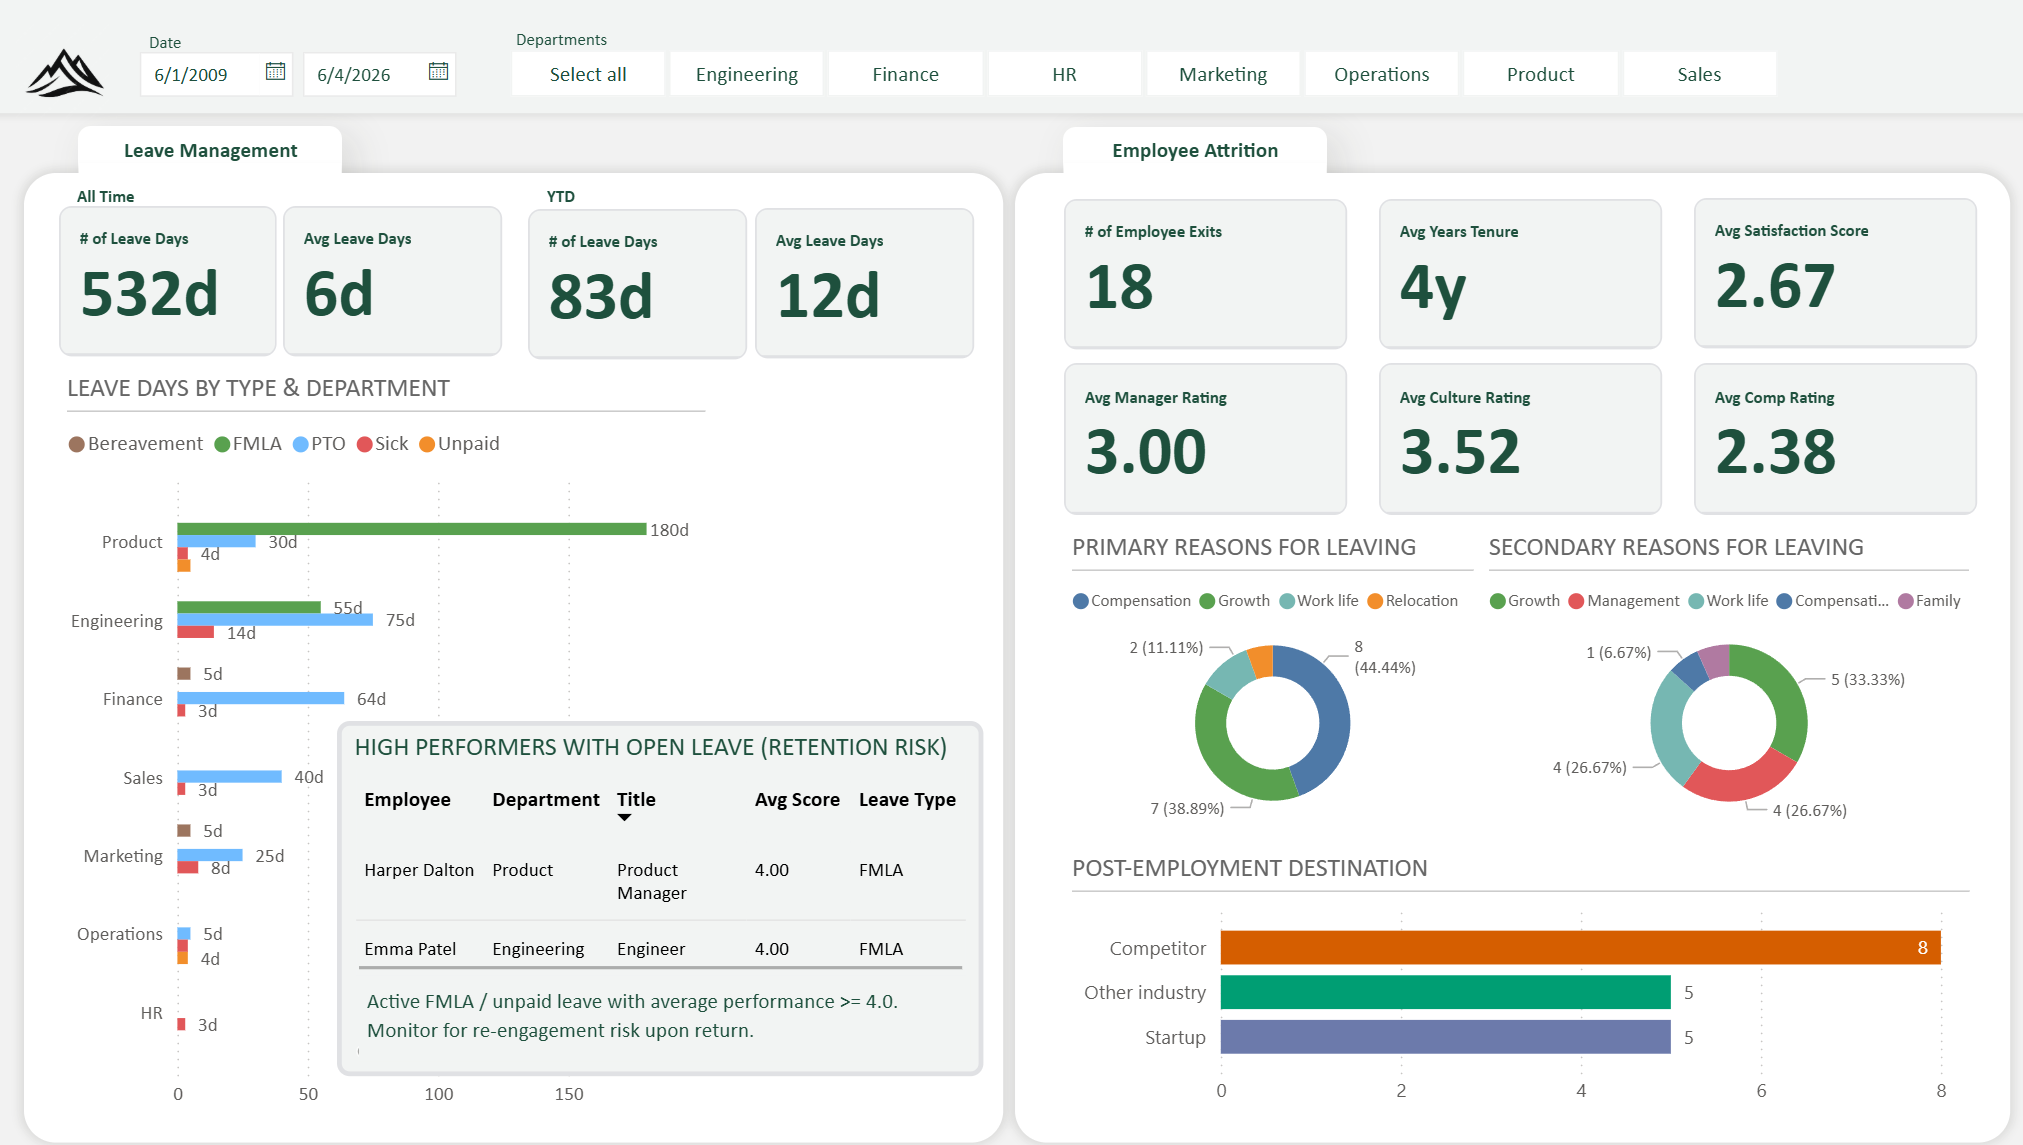

The dashboard page shown, as its layout file describes it:
{"tool":"powerbi","page":{"name":"Leave Management & Employee Attrition","canvas":[1280,720],"ordinal":1},"visuals":[{"type":"shape","box":[670.1,80.4,164.9,51.5],"z":0},{"type":"shape","box":[54.5,79.9,164.9,51.4],"z":1000},{"type":"shape","box":[640,109.1,622.2,605.7],"z":2000},{"type":"shape","box":[20.9,109.1,612.1,605.7],"z":3000},{"type":"shape","box":[0,0,1279.7,72.2],"z":4000},{"type":"image","box":[12.5,14.4,67.3,65.4],"z":5000},{"type":"slicer","fields":{"Values":["Departments.dept_name"]},"box":[298.7,25.3,841.8,43],"z":6000},{"type":"slicer","fields":{"Values":["Date.Date"]},"box":[79.7,24.1,219,44.3],"z":7000},{"type":"textbox","box":[93.6,12.7,48.4,28.7],"z":12000},{"type":"textbox","box":[322.9,10.5,89.8,30.3],"z":13000},{"type":"textbox","box":[55.6,80.8,163.6,28.3],"z":14000},{"type":"textbox","box":[670.6,80.4,164.4,28.9],"z":15000},{"type":"shape","box":[55,102.9,164.5,22.7],"z":16000},{"type":"shape","box":[670.6,103.1,164.4,22.7],"z":17000},{"type":"cardVisual","fields":{"Data":["Leave_Requests.Approved_Leave_Days"]},"box":[42.4,130.3,136.4,93.9],"z":18000},{"type":"cardVisual","fields":{"Data":["Leave_Requests.Leave_Days_Approved_12M"]},"box":[335.4,131.6,137.3,93.9],"z":19000},{"type":"cardVisual","fields":{"Data":["Leave_Requests.Avg_Days_Taken"]},"box":[182.5,130.2,137.3,93.9],"z":20000},{"type":"cardVisual","fields":{"Data":["Leave_Requests.Avg_Leave_Days_12M"]},"box":[477.8,131.3,137.4,93.9],"z":21000},{"type":"textbox","box":[48.6,109,89.6,31.6],"z":22000},{"type":"textbox","box":[342.5,109,89.6,31.6],"z":23000},{"type":"clusteredBarChart","title":"LEAVE DAYS BY TYPE & DEPARTMENT","fields":{"Category":["Departments.dept_name"],"Y":["Leave_Requests.Approved_Leave_Days"],"Series":["Leave_Requests.Employment Status Display"]},"box":[42.5,234,409,466],"z":24000},{"type":"tableEx","title":"HIGH PERFORMERS WITH OPEN LEAVE (RETENTION RISK)","fields":{"Values":["Employees.Employee_Name","Departments.dept_name","Employees.job_title","Performance.Average_Performance_Active","Leave_Requests.Employment Status Display"]},"box":[216.4,451.6,403.9,221.9],"z":25000},{"type":"shape","box":[229.7,588.2,377.4,35.8],"z":26000},{"type":"textbox","box":[229.7,612.7,382.1,51.9],"z":27000},{"type":"cardVisual","fields":{"Data":["Exit_Interviews.Avg_Years_Tenure"]},"box":[867.2,125.8,177.3,93.8],"z":28000},{"type":"cardVisual","fields":{"Data":["Exit_Interviews.Exit_Count"]},"box":[670.3,125.8,177.3,93.8],"z":29000},{"type":"cardVisual","fields":{"Data":["Exit_Interviews.Avg_Satisfaction_Score"]},"box":[1064.1,125,177.3,93.8],"z":30000},{"type":"cardVisual","fields":{"Data":["Exit_Interviews.Avg_Manager_Rating"]},"box":[670.3,228.1,177.3,94.5],"z":31000},{"type":"cardVisual","fields":{"Data":["Exit_Interviews.Avg_Culture_Rating"]},"box":[867.2,228.1,177.3,94.5],"z":32000},{"type":"cardVisual","fields":{"Data":["Exit_Interviews.Avg_Comp_Rating"]},"box":[1064.1,228.1,177.3,94.5],"z":33000},{"type":"donutChart","title":"PRIMARY REASONS FOR LEAVING","fields":{"Category":["Exit_Interviews.Reason Primary Display"],"Y":["Exit_Interviews.Exit_Count"]},"box":[670.3,332.8,260.9,186.7],"z":34000},{"type":"donutChart","title":"SECONDARY REASONS FOR LEAVING","fields":{"Category":["Exit_Interviews.Reason Secondary Display"],"Y":["Exit_Interviews.Exit_Count"]},"box":[931.2,332.8,310.2,186.7],"z":35000},{"type":"clusteredBarChart","title":"POST-EMPLOYMENT DESTINATION","fields":{"Category":["Exit_Interviews.Destination Type Display"],"Y":["Exit_Interviews.Exit_Count"]},"box":[670.3,533.6,571.1,166.4],"z":36000}]}

Visuals, with their boxes in screenshot pixels (x1, y1, x2, y2), scaled from the page's 1280x720 canvas onto the 2023x1145 screenshot:
shape: box(1059, 128, 1320, 210)
shape: box(86, 127, 347, 209)
shape: box(1012, 173, 1995, 1137)
shape: box(33, 173, 1000, 1137)
shape: box(0, 0, 2022, 115)
image: box(20, 23, 126, 127)
slicer - Departments.dept_name: box(472, 40, 1803, 109)
slicer - Date.Date: box(126, 38, 472, 109)
textbox: box(148, 20, 224, 66)
textbox: box(510, 17, 652, 65)
textbox: box(88, 128, 346, 173)
textbox: box(1060, 128, 1320, 174)
shape: box(87, 164, 347, 200)
shape: box(1060, 164, 1320, 200)
cardVisual - Leave_Requests.Approved_Leave_Days: box(67, 207, 283, 357)
cardVisual - Leave_Requests.Leave_Days_Approved_12M: box(530, 209, 747, 359)
cardVisual - Leave_Requests.Avg_Days_Taken: box(288, 207, 505, 356)
cardVisual - Leave_Requests.Avg_Leave_Days_12M: box(755, 209, 972, 358)
textbox: box(77, 173, 218, 224)
textbox: box(541, 173, 683, 224)
"LEAVE DAYS BY TYPE & DEPARTMENT" clusteredBarChart: box(67, 372, 714, 1113)
"HIGH PERFORMERS WITH OPEN LEAVE (RETENTION RISK)" tableEx: box(342, 718, 980, 1071)
shape: box(363, 935, 960, 992)
textbox: box(363, 974, 967, 1057)
cardVisual - Exit_Interviews.Avg_Years_Tenure: box(1371, 200, 1651, 349)
cardVisual - Exit_Interviews.Exit_Count: box(1059, 200, 1340, 349)
cardVisual - Exit_Interviews.Avg_Satisfaction_Score: box(1682, 199, 1962, 348)
cardVisual - Exit_Interviews.Avg_Manager_Rating: box(1059, 363, 1340, 513)
cardVisual - Exit_Interviews.Avg_Culture_Rating: box(1371, 363, 1651, 513)
cardVisual - Exit_Interviews.Avg_Comp_Rating: box(1682, 363, 1962, 513)
"PRIMARY REASONS FOR LEAVING" donutChart: box(1059, 529, 1472, 826)
"SECONDARY REASONS FOR LEAVING" donutChart: box(1472, 529, 1962, 826)
"POST-EMPLOYMENT DESTINATION" clusteredBarChart: box(1059, 849, 1962, 1113)
